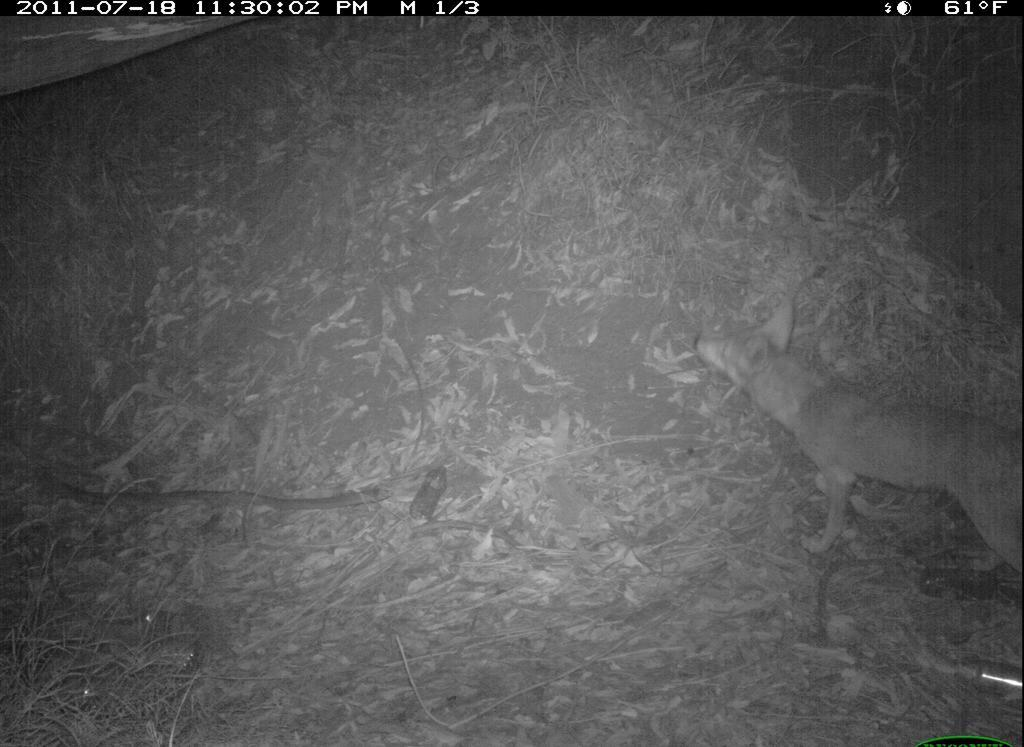coyote: (689, 295, 1021, 588)
